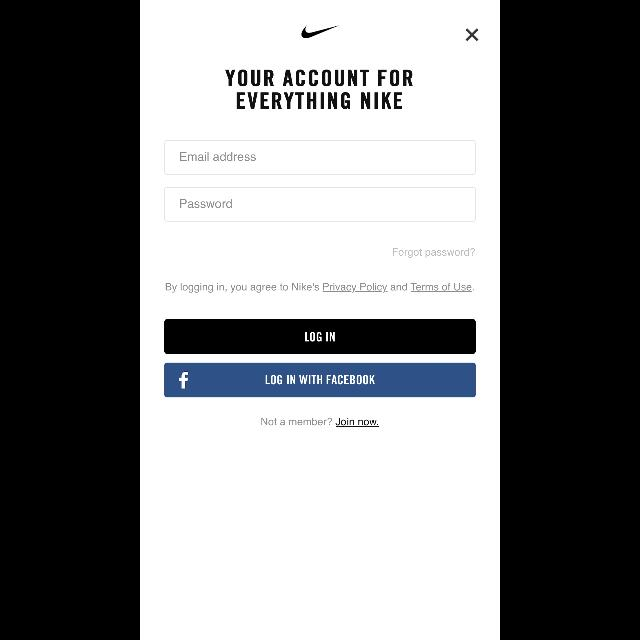icon: (466, 28, 478, 42)
image: (302, 26, 338, 38)
input: (164, 186, 476, 222), (164, 140, 476, 176)
text: (225, 70, 412, 110), (166, 283, 474, 293), (261, 418, 379, 427), (393, 248, 475, 258), (180, 152, 256, 162), (180, 200, 232, 208)
textbutton: (164, 362, 476, 398), (164, 320, 476, 354)
